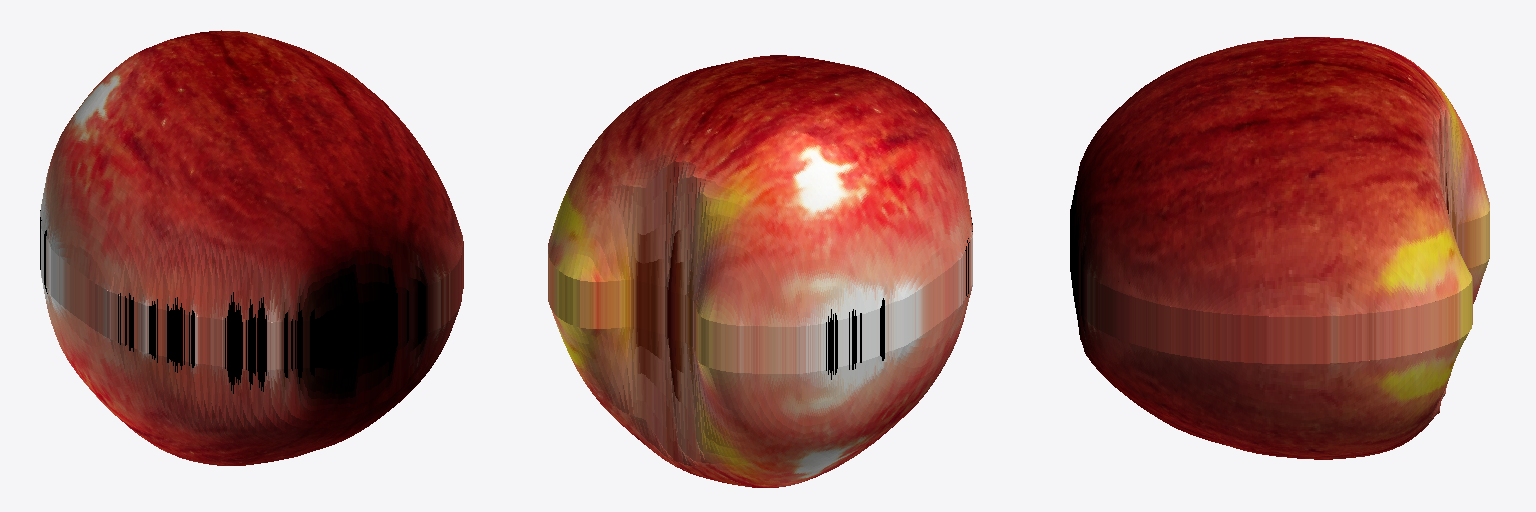
3 views of the same model, side by side, from view 1: azimuth 30°, elevation 25°; view 2: azimuth 150°, elevation 25°; view 3: azimuth 270°, elevation 25° (orthographic).
Parts seen in each view (by area): view 1: Grid; view 2: Grid; view 3: Grid.
Boxes of the visible parts, x1=… form: Grid: x1=40, y1=30, x2=463, y2=465; Grid: x1=548, y1=55, x2=972, y2=487; Grid: x1=1070, y1=37, x2=1489, y2=459.
Size of the model in its own units: 1.54 by 1.61 by 1.62.
1 materials, 1 textured.